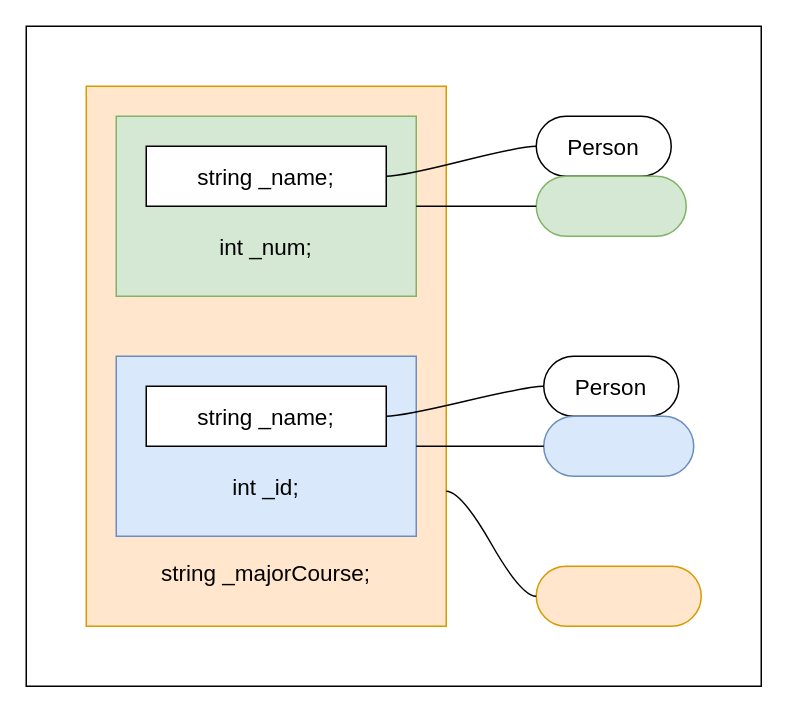
Some shapes in this 788 by 713 pixel diagram are drawn without their labels. Here are the shapes that lost their labels. From the top down, the centre of each, then its label:
point (610, 205): Student
point (618, 445): Teacher
point (618, 595): Assistant
